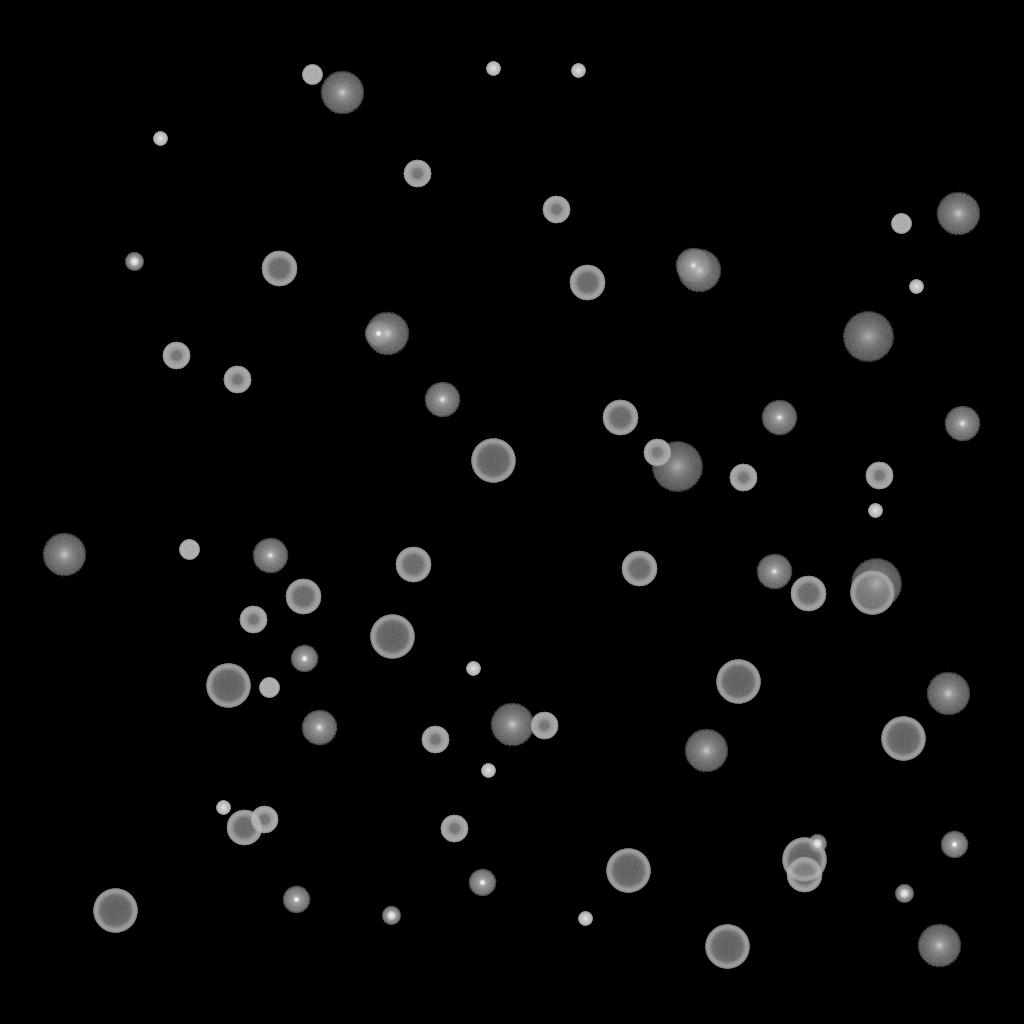depth:-10: (282, 886, 310, 914), (468, 869, 496, 897), (940, 831, 968, 859), (364, 320, 392, 348), (290, 645, 318, 673)
depth:-20: (895, 885, 913, 903), (125, 253, 143, 271), (382, 907, 400, 925), (808, 835, 826, 853)
depth:-30: (153, 132, 167, 146), (486, 62, 500, 76), (868, 504, 882, 518), (909, 280, 923, 294), (466, 662, 480, 676), (578, 912, 592, 926), (571, 64, 585, 78), (216, 801, 230, 815), (481, 764, 495, 778)
depth:-40: (179, 540, 199, 560), (302, 65, 322, 85), (259, 678, 279, 698), (891, 214, 911, 234)
depth:-50: (865, 462, 893, 490), (440, 815, 468, 843), (403, 160, 431, 188), (643, 439, 671, 467), (162, 342, 190, 370), (223, 366, 251, 394), (729, 464, 757, 492), (239, 606, 267, 634), (530, 712, 558, 740), (421, 726, 449, 754), (542, 196, 570, 224), (250, 806, 278, 834)
depth:-60: (226, 810, 262, 846), (285, 579, 321, 615), (261, 251, 297, 287), (790, 576, 826, 612), (621, 551, 657, 587), (569, 265, 605, 301), (786, 857, 822, 893), (395, 547, 431, 583), (602, 400, 638, 436)
depth:-70: (716, 660, 760, 704), (370, 615, 414, 659), (705, 925, 749, 969), (782, 838, 826, 882), (93, 889, 137, 933), (471, 439, 515, 483), (881, 717, 925, 761), (206, 664, 250, 708), (850, 571, 894, 615), (606, 849, 650, 893)
depth:0: (944, 406, 980, 442), (301, 710, 337, 746), (756, 554, 792, 590), (252, 538, 288, 574), (675, 248, 711, 284), (761, 400, 797, 436), (424, 382, 460, 418)
depth:10: (936, 192, 980, 236), (677, 249, 721, 293), (365, 312, 409, 356), (917, 924, 961, 968), (926, 672, 970, 716), (684, 729, 728, 773), (42, 533, 86, 577), (490, 703, 534, 747), (320, 71, 364, 115)
depth:20: (842, 312, 894, 362), (850, 559, 902, 609), (651, 442, 703, 492)
